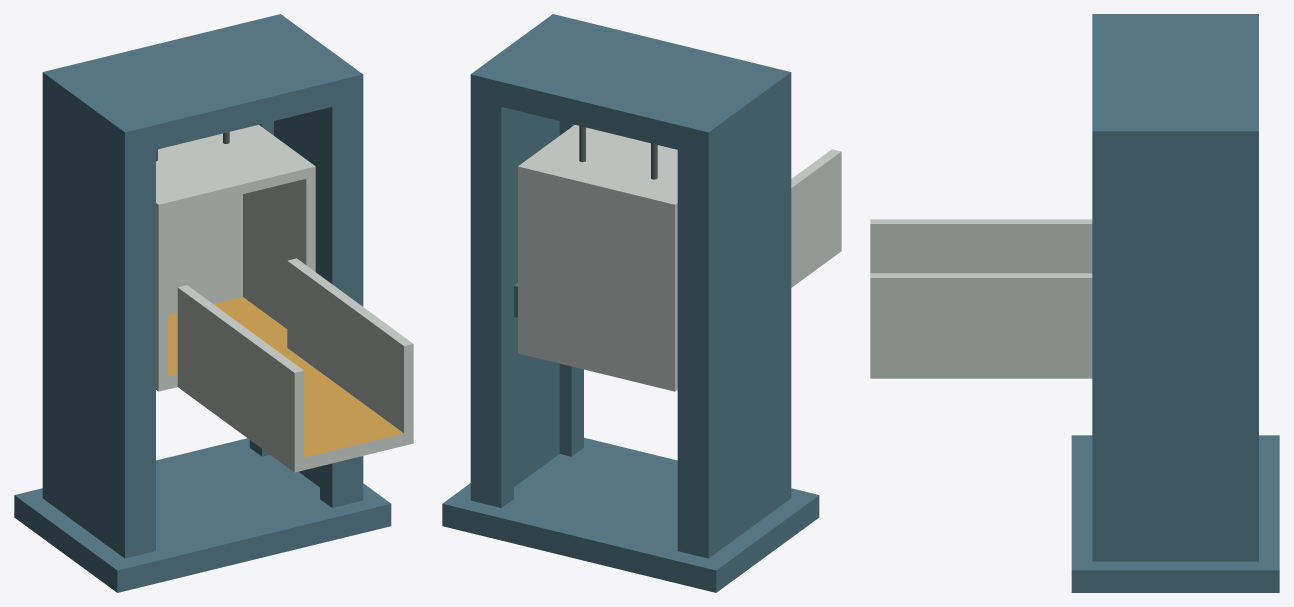
3 renders of one model, left to right at view 1: azimuth 30°, elevation 25°; view 2: azimuth 150°, elevation 25°; view 3: azimuth 270°, elevation 25°, orthographic.
Visible parts, largest first — view 1: WholeOpenCarAndIntegralForwardTrough, LeftWholeInwardChannelColumn, WholeOverheadHeader, WholeGroundedTowerFooting, RightWholeInwardChannelColumn; view 2: LeftWholeInwardChannelColumn, WholeOpenCarAndIntegralForwardTrough, WholeOverheadHeader, RightWholeInwardChannelColumn, WholeGroundedTowerFooting; view 3: RightWholeInwardChannelColumn, WholeOpenCarAndIntegralForwardTrough, WholeOverheadHeader, WholeGroundedTowerFooting.
Boxes of the visible parts, x1,y1,x2,y2 form: WholeOpenCarAndIntegralForwardTrough: [156, 125, 413, 472]; LeftWholeInwardChannelColumn: [42, 97, 155, 558]; WholeOverheadHeader: [42, 14, 363, 157]; WholeGroundedTowerFooting: [14, 438, 391, 592]; RightWholeInwardChannelColumn: [249, 99, 363, 507]; LeftWholeInwardChannelColumn: [677, 97, 791, 558]; WholeOpenCarAndIntegralForwardTrough: [518, 125, 841, 391]; WholeOverheadHeader: [470, 14, 791, 157]; RightWholeInwardChannelColumn: [470, 99, 583, 507]; WholeGroundedTowerFooting: [442, 437, 819, 592]; RightWholeInwardChannelColumn: [1092, 156, 1258, 561]; WholeOpenCarAndIntegralForwardTrough: [870, 219, 1092, 378]; WholeOverheadHeader: [1092, 14, 1258, 156]; WholeGroundedTowerFooting: [1071, 435, 1279, 592].
Bounding box in the file's own units: 2.3 × 3.6 × 2.95.
